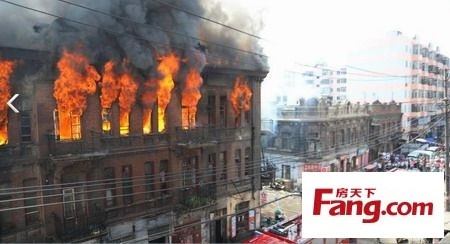fire: (50, 52, 243, 136)
